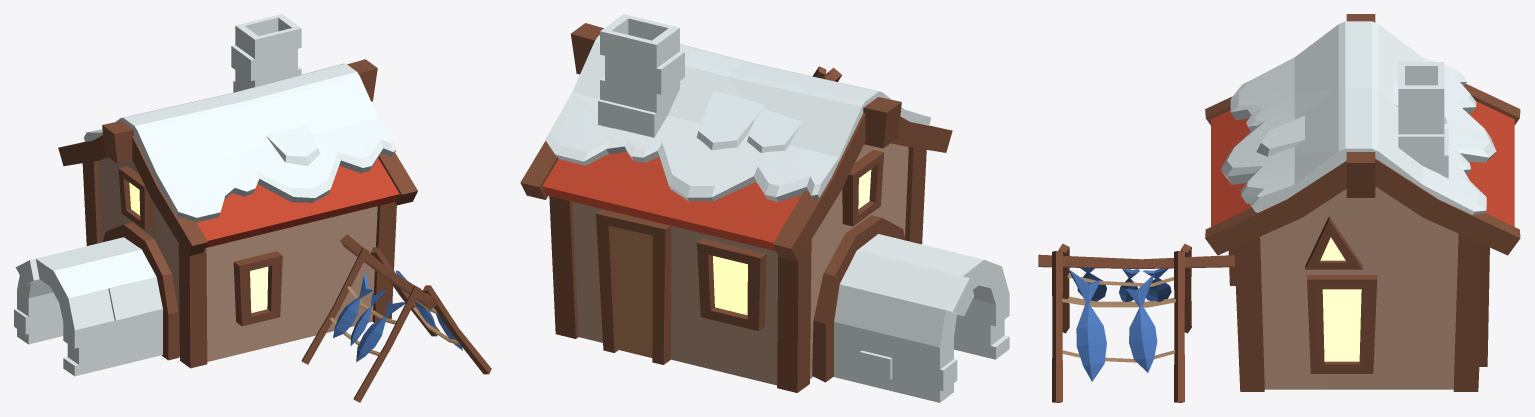
File: igloo_maison.fbx
The picture shows the model from 3 angles, left to right: view 1: azimuth 30°, elevation 25°; view 2: azimuth 150°, elevation 25°; view 3: azimuth 270°, elevation 25°; orthographic projection. The views are drawn at different scales.
Visible parts, largest first — view 1: pCube28, pCube17, pPipe1, pCube21, pCube33, pCube25, pPipe2, pCube23, pCube32, pCube29, pCube34, pCube35 (+7 smaller); view 2: pCube17, pCube28, pPipe1, pCube24, pCube50, pCube33, pCube49, pPipe2, pCube30, pCube23, pCube32, pCube31 (+1 smaller); view 3: pCube17, pCube28, pCube24, pCube21, pCube51, pCube33, poisson2, pCube34, pCube52, pCube36, pCube38, poisson1 (+7 smaller).
Boxes of the visible parts, bbox=[...] form: pCube28: bbox=[84, 63, 396, 222]; pCube17: bbox=[82, 158, 396, 368]; pPipe1: bbox=[14, 237, 162, 376]; pCube21: bbox=[132, 136, 417, 256]; pCube33: bbox=[231, 14, 301, 92]; pCube25: bbox=[233, 251, 282, 326]; pPipe2: bbox=[103, 222, 179, 360]; pCube23: bbox=[102, 59, 377, 163]; pCube32: bbox=[118, 166, 153, 229]; pCube29: bbox=[266, 125, 320, 165]; pCube34: bbox=[340, 234, 437, 309]; pCube35: bbox=[353, 285, 421, 402]; pCube17: bbox=[549, 143, 926, 392]; pCube28: bbox=[545, 35, 931, 201]; pPipe1: bbox=[833, 234, 1009, 402]; pCube24: bbox=[520, 112, 865, 261]; pCube50: bbox=[596, 209, 671, 364]; pCube33: bbox=[598, 14, 684, 137]; pCube49: bbox=[696, 238, 766, 331]; pPipe2: bbox=[812, 215, 905, 382]; pCube30: bbox=[696, 91, 765, 150]; pCube23: bbox=[571, 23, 901, 148]; pCube32: bbox=[842, 150, 884, 226]; pCube31: bbox=[747, 109, 802, 152]; pCube17: bbox=[1234, 186, 1484, 391]; pCube28: bbox=[1221, 21, 1496, 214]; pCube24: bbox=[1375, 84, 1520, 255]; pCube21: bbox=[1205, 96, 1346, 255]; pCube51: bbox=[1307, 275, 1377, 373]; pCube33: bbox=[1398, 62, 1448, 178]; poisson2: bbox=[1068, 269, 1106, 381]; pCube34: bbox=[1038, 254, 1234, 268]; pCube52: bbox=[1305, 216, 1362, 269]; pCube36: bbox=[1052, 251, 1062, 402]; pCube38: bbox=[1174, 251, 1184, 402]; poisson1: bbox=[1125, 275, 1157, 372].
Size of the model in its own units: 7.43 by 5.3 by 7.92.
